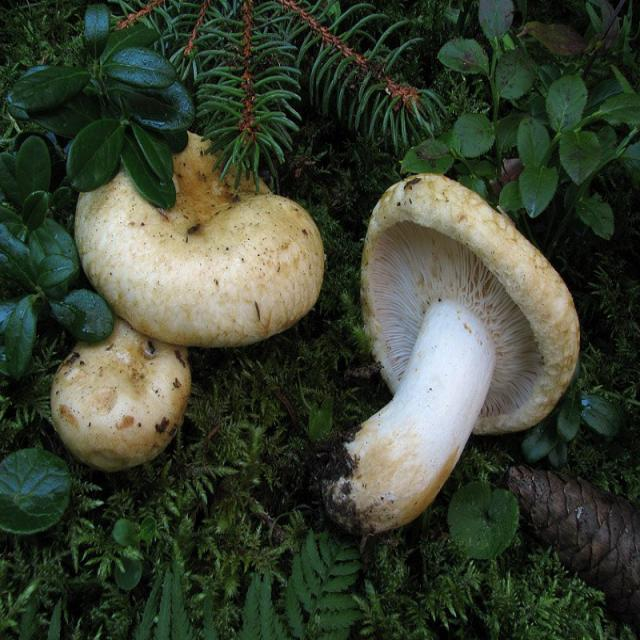Armillaria mellea: (51, 125, 328, 472), (343, 174, 580, 537)
